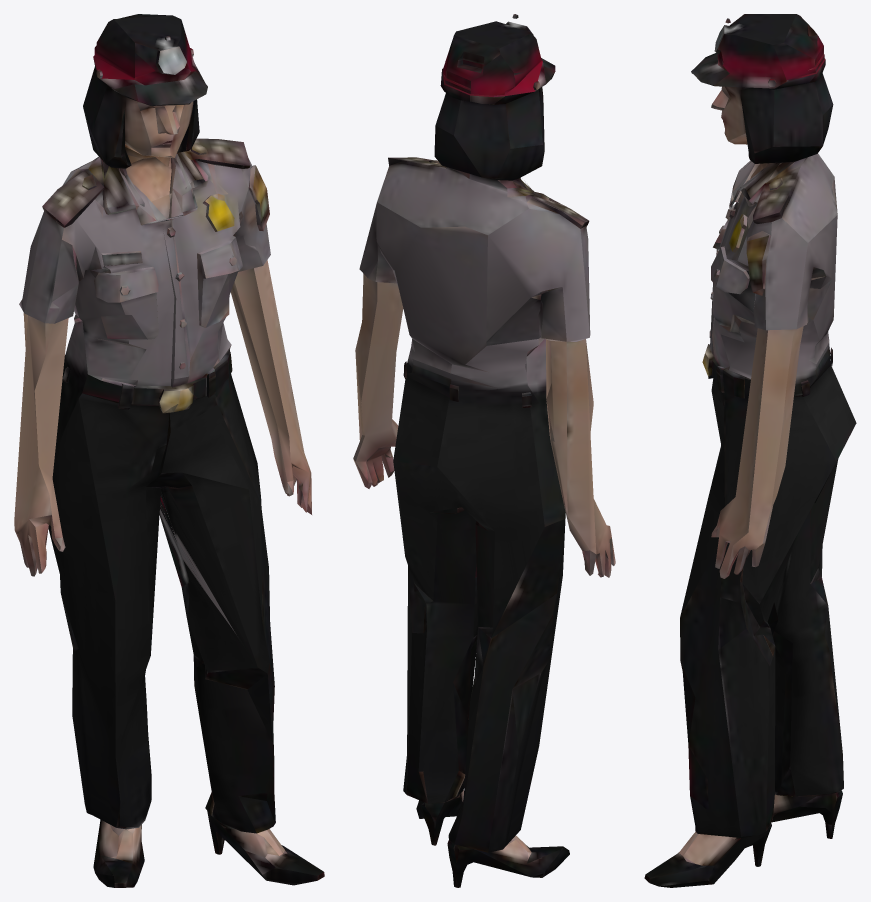
The model's file is polwan_idle_lod2.glb.
The picture shows the model from 3 angles, left to right: view 1: azimuth 30°, elevation 25°; view 2: azimuth 150°, elevation 25°; view 3: azimuth 270°, elevation 25°; orthographic projection. The views are drawn at different scales.
Parts seen in each view (by area): view 1: tripo_node_8e05bf5d; view 2: tripo_node_8e05bf5d; view 3: tripo_node_8e05bf5d.
Boxes of the visible parts, x1,y1,x2,y2 form: tripo_node_8e05bf5d: (14, 14, 324, 887); tripo_node_8e05bf5d: (353, 14, 615, 887); tripo_node_8e05bf5d: (644, 14, 856, 887).
Size of the model in its own units: 32.78 by 99.49 by 23.4.
Materials: 1 (1 with a texture image).
